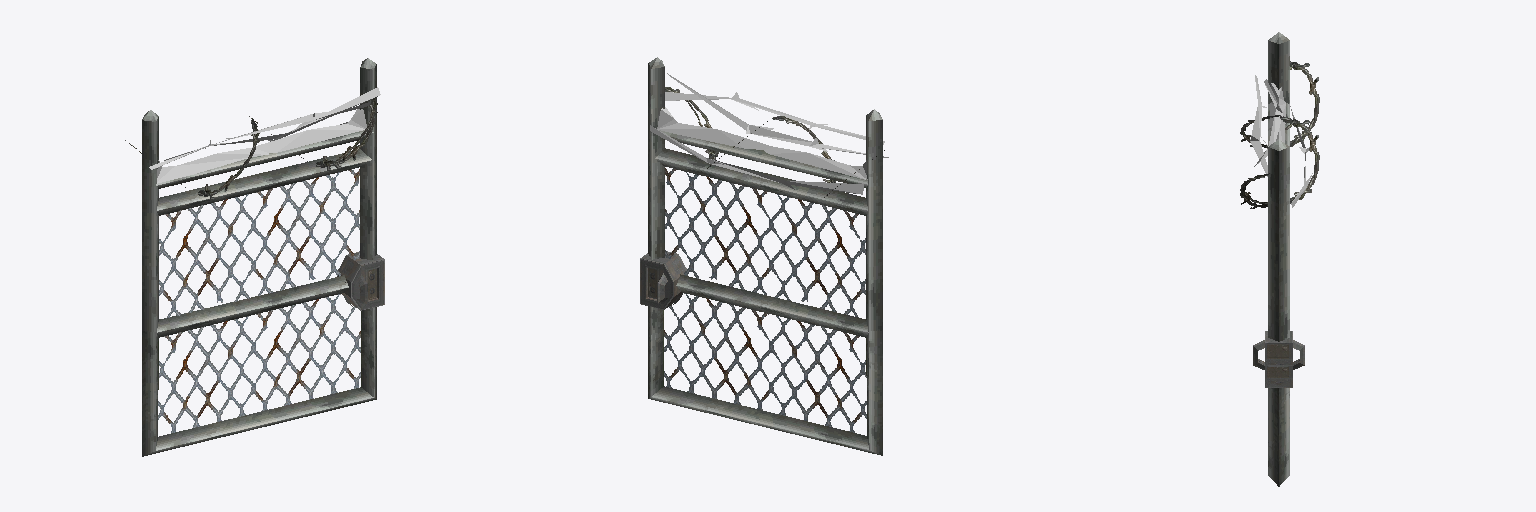
The picture shows the model from 3 angles: view 1: azimuth 30°, elevation 25°; view 2: azimuth 150°, elevation 25°; view 3: azimuth 270°, elevation 25°; orthographic projection.
Parts seen in each view (by area): view 1: Node 0; view 2: Node 0; view 3: Node 0.
Part boxes in pixels (left/top/right/bottom): Node 0: left=125, top=58, right=384, bottom=456; Node 0: left=640, top=57, right=888, bottom=455; Node 0: left=1240, top=32, right=1319, bottom=486.
Size of the model in its own units: 3.9 by 5.3 by 1.11.
Materials: 6 (4 with a texture image).